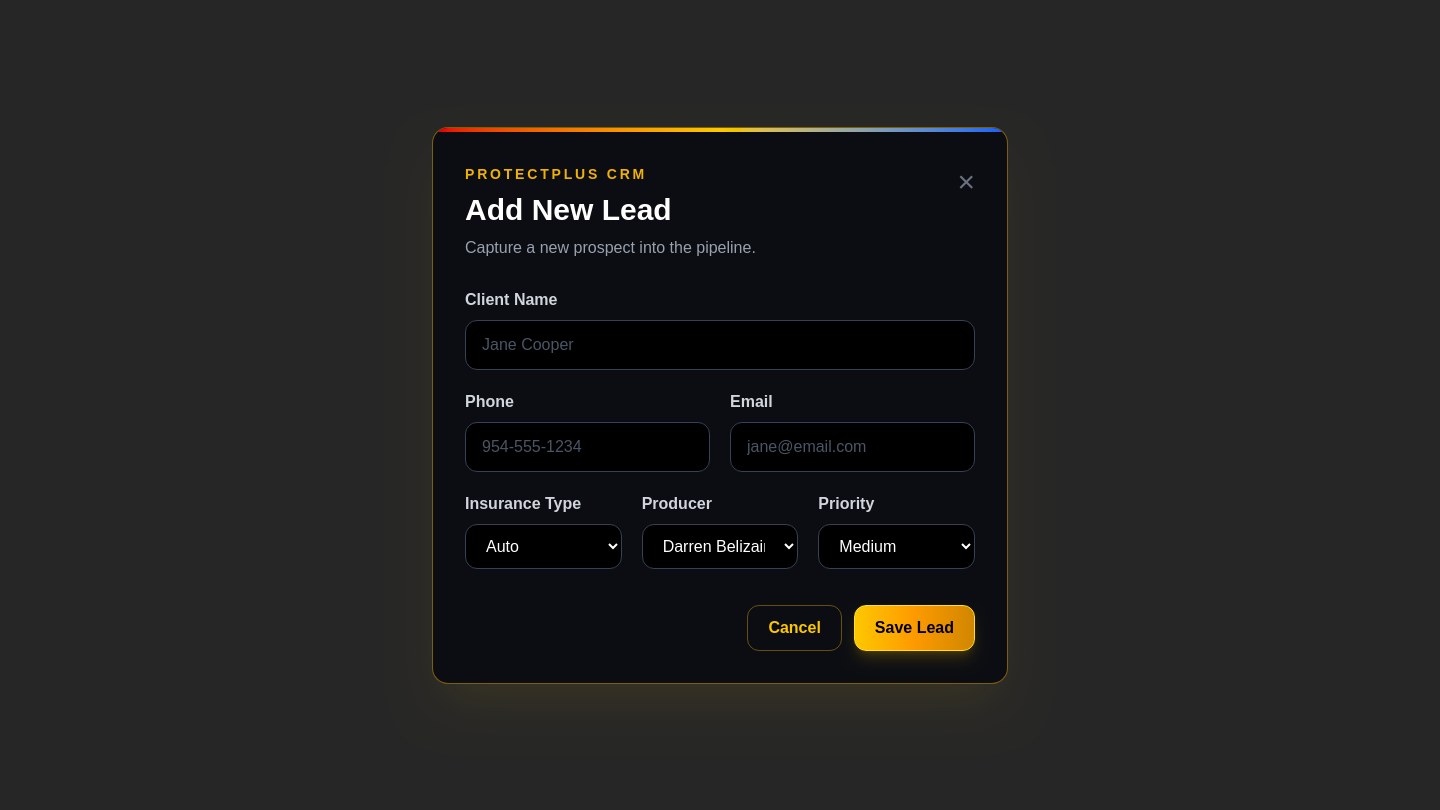
it: AddLeadModal › clears the form when closed via the × button
Step 1. Type "Temp Value" into the field with placeholder "Jane Cooper" → (720, 344), box [465, 320, 975, 370]
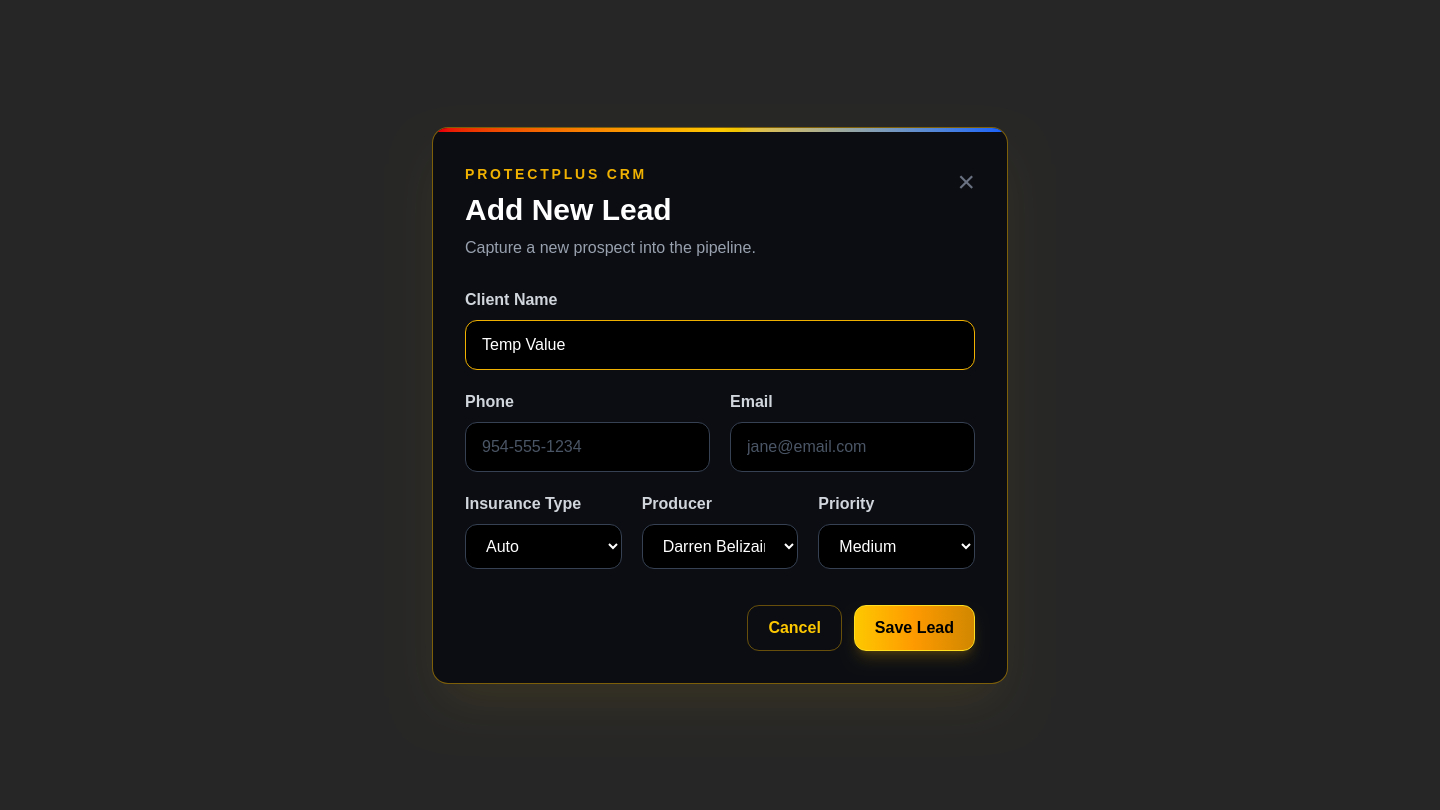
Step 2. Click the button "×" → (966, 182), box [958, 164, 975, 200]
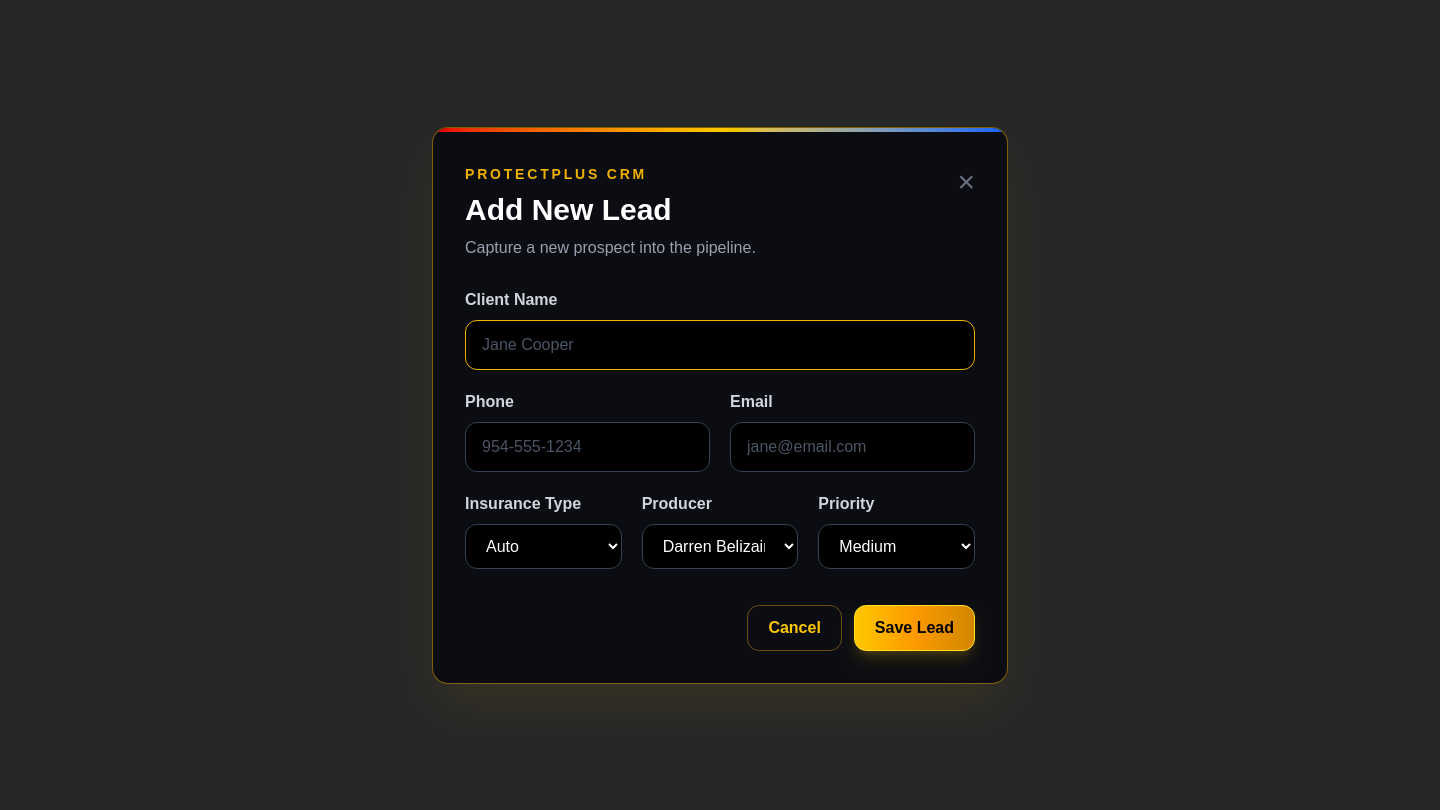
Expected: the field with placeholder "Jane Cooper" is empty, [465, 320, 975, 370]
